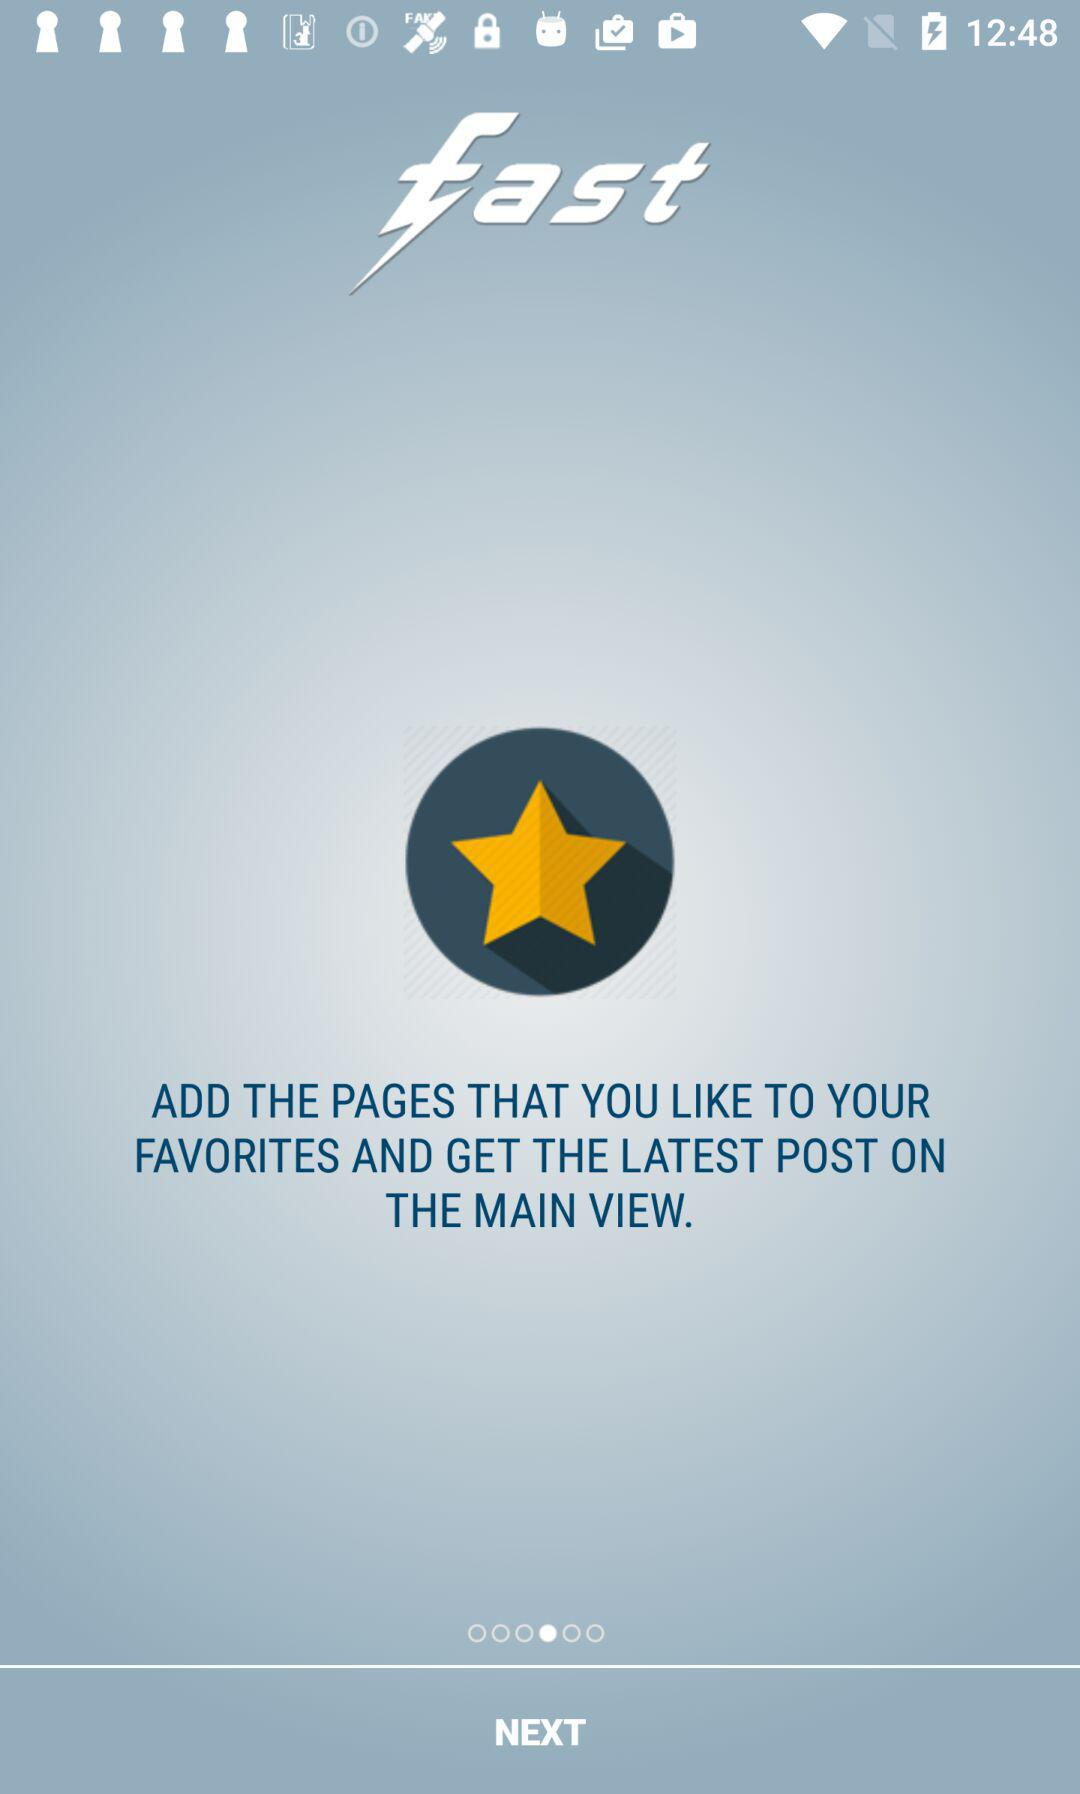Image: (404, 724, 674, 996), (345, 109, 710, 293)
PageIndicator: (468, 1622, 607, 1645)
Text: (135, 1080, 945, 1229), (493, 1716, 589, 1749)
UpperTaskBar: (1, 1, 1080, 59)
